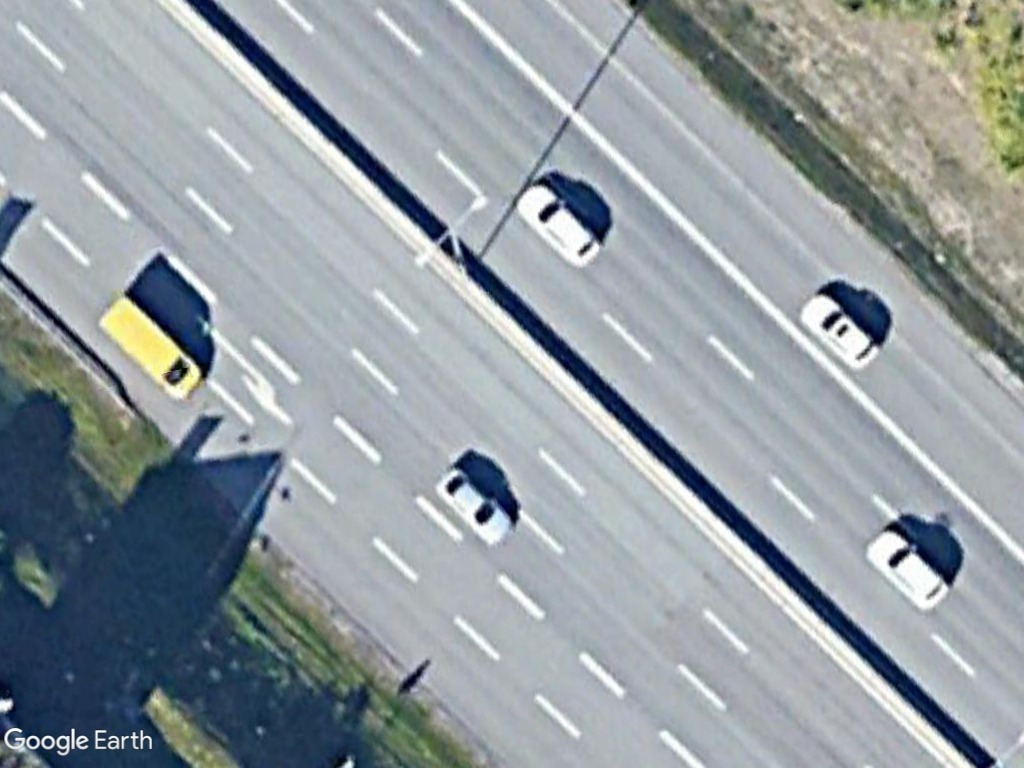car: (863, 524, 955, 613), (516, 182, 606, 271), (795, 290, 885, 375), (434, 465, 518, 548)
van: (98, 292, 209, 407)
